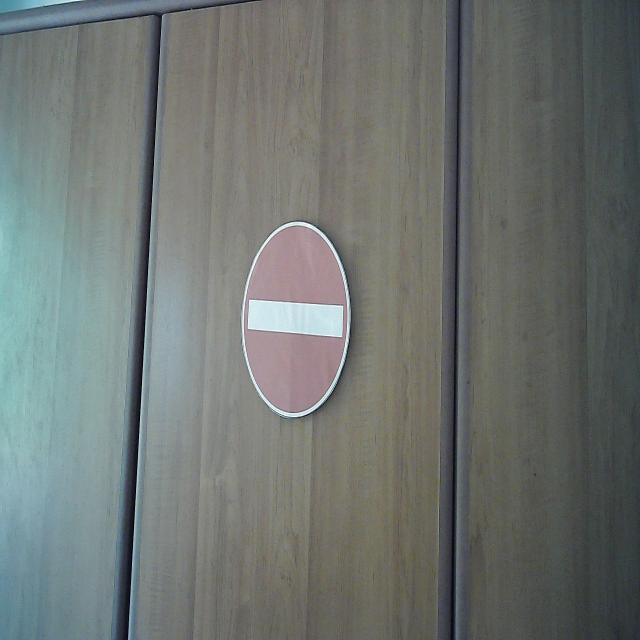no_entry: (240, 220, 353, 420)
